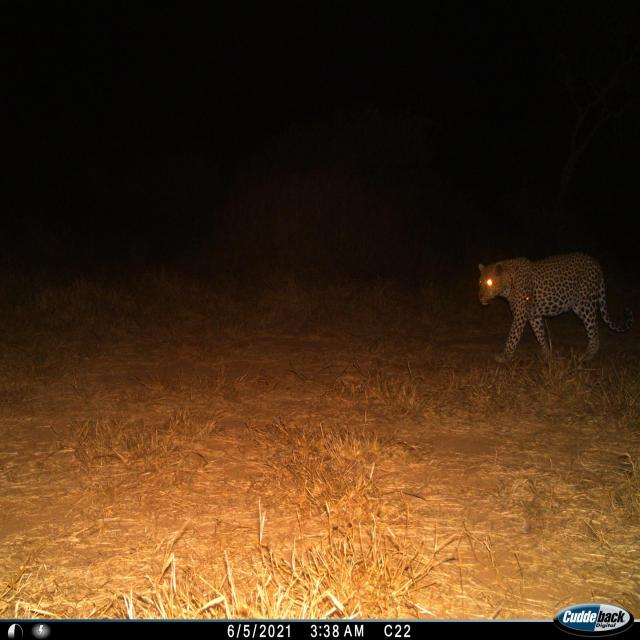Leopard: (476, 240, 640, 370)
